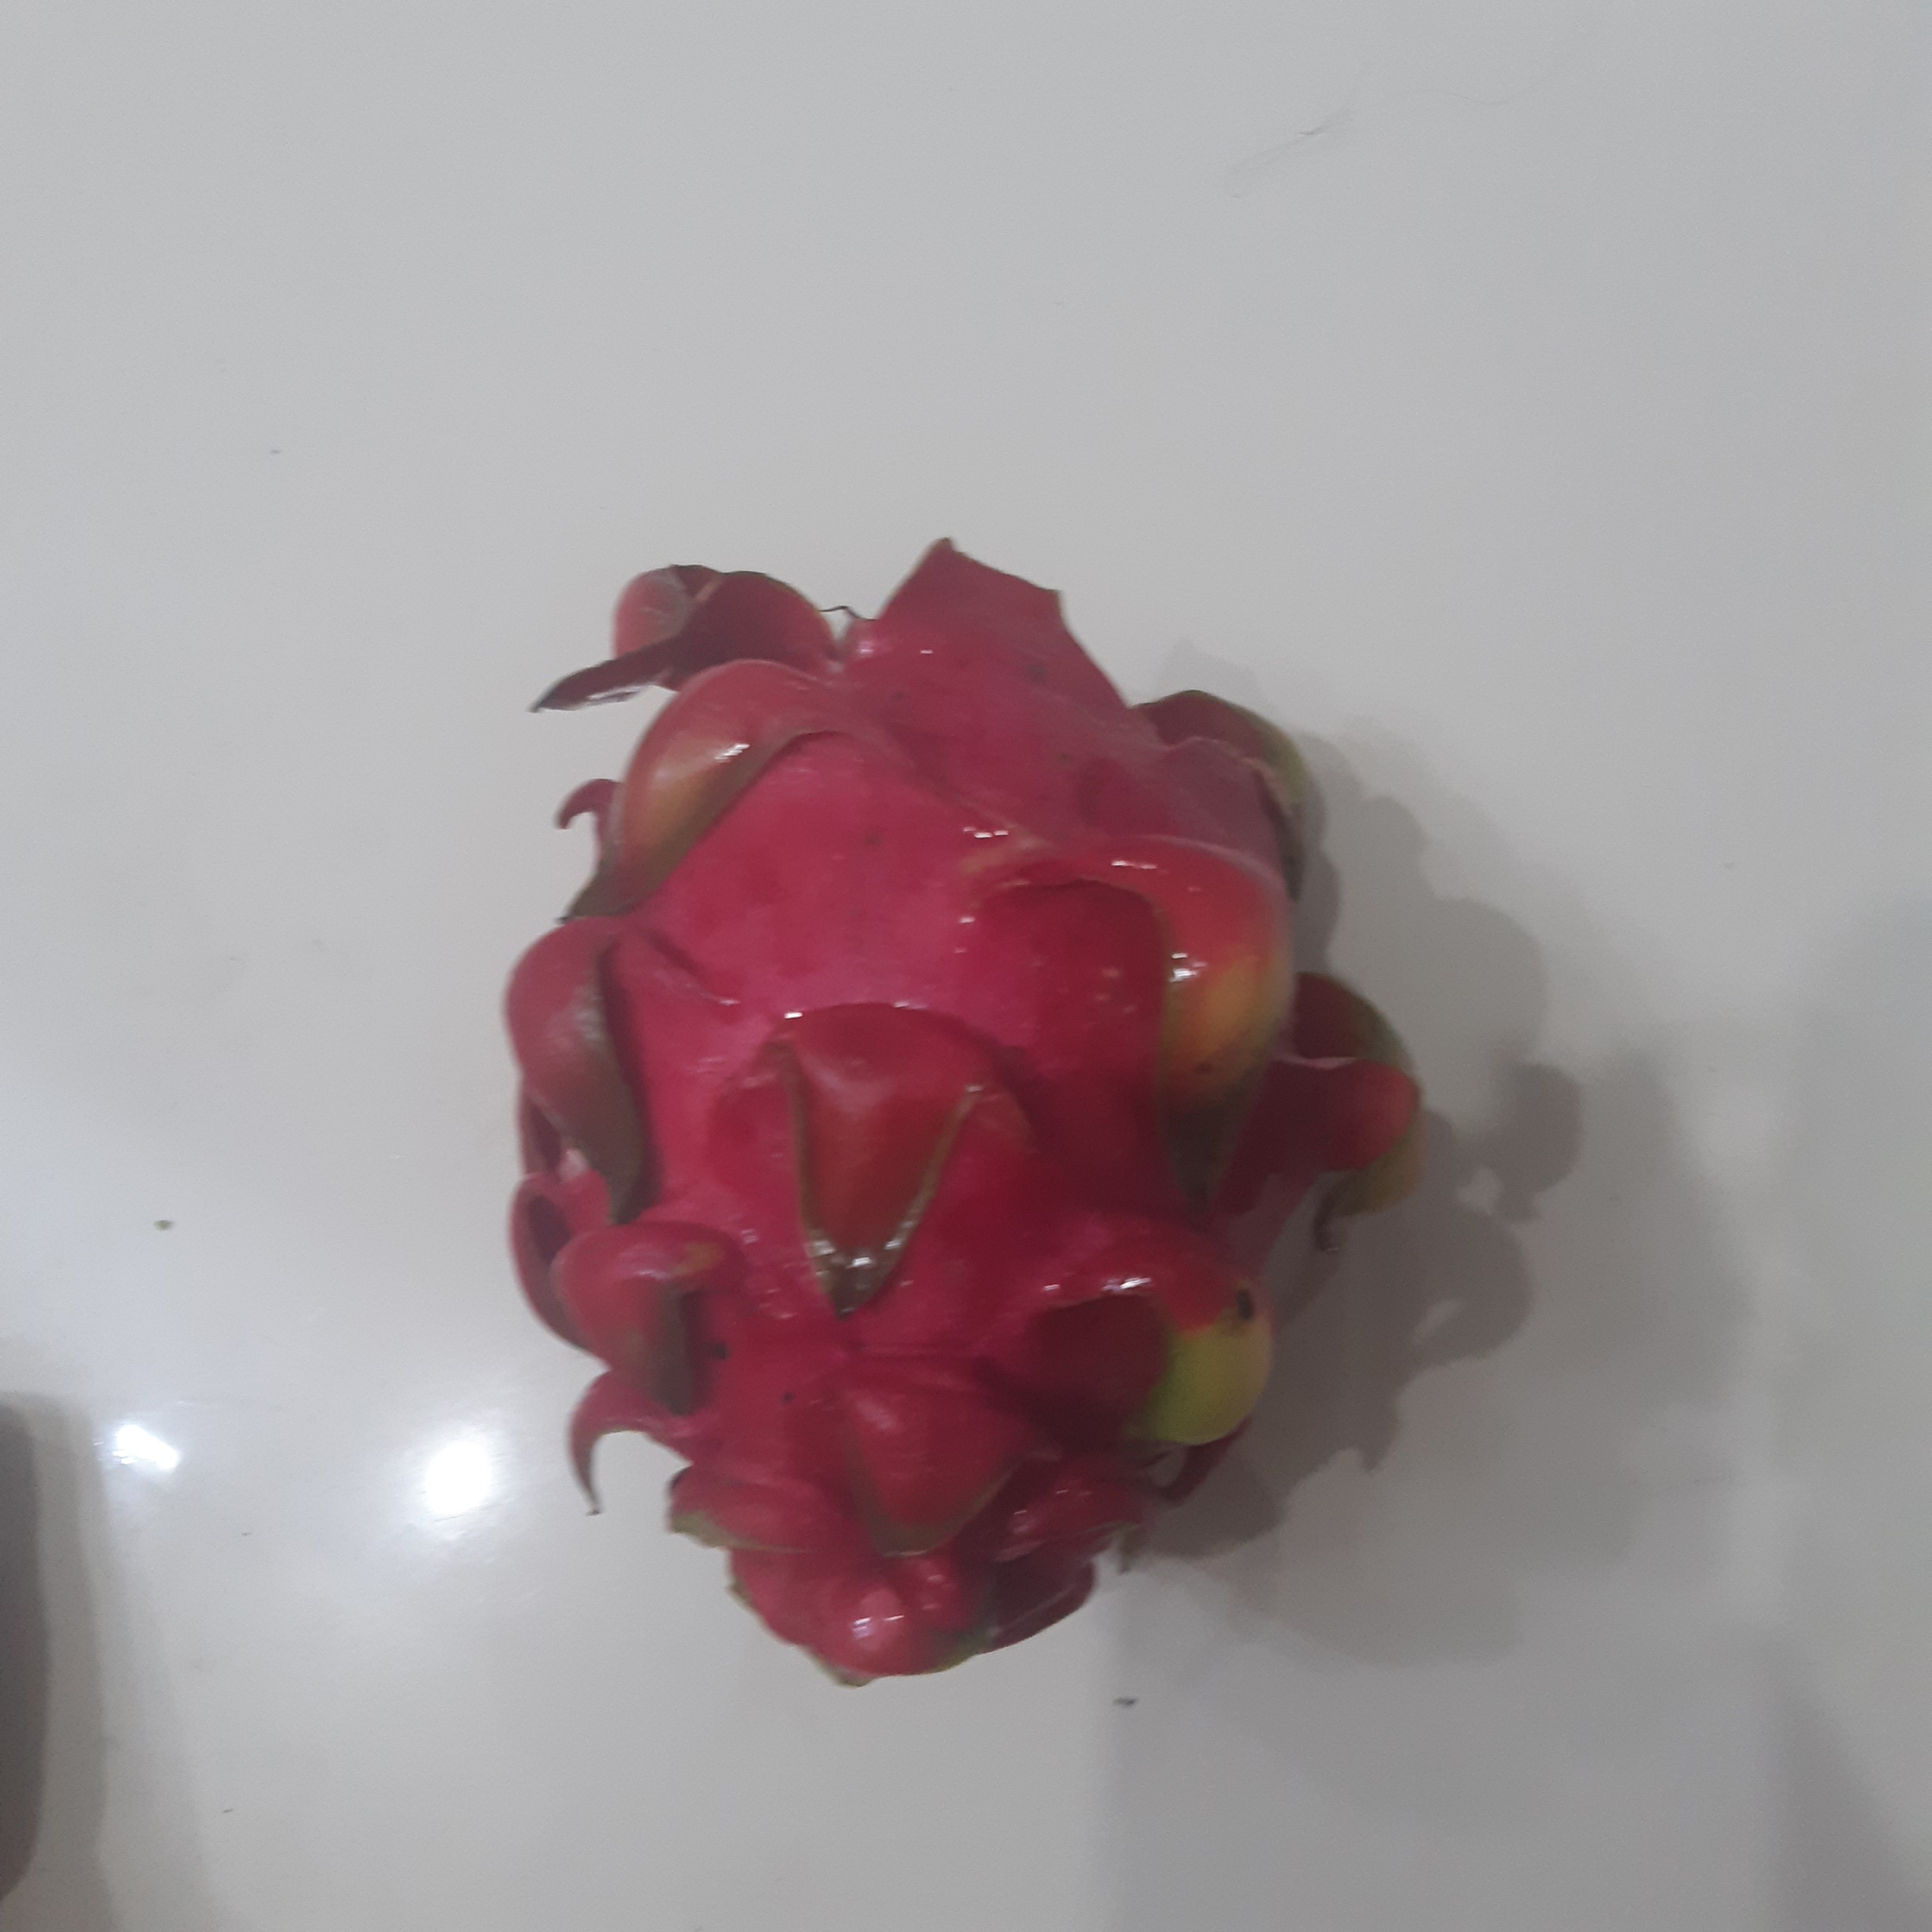Thanh long: (522, 571, 1322, 1691)
